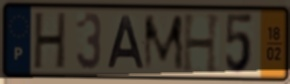3: (74, 10, 103, 73)
5: (224, 11, 257, 76)
A: (106, 14, 147, 71)
H: (181, 12, 223, 75), (32, 10, 69, 72)
M: (142, 12, 187, 73)
